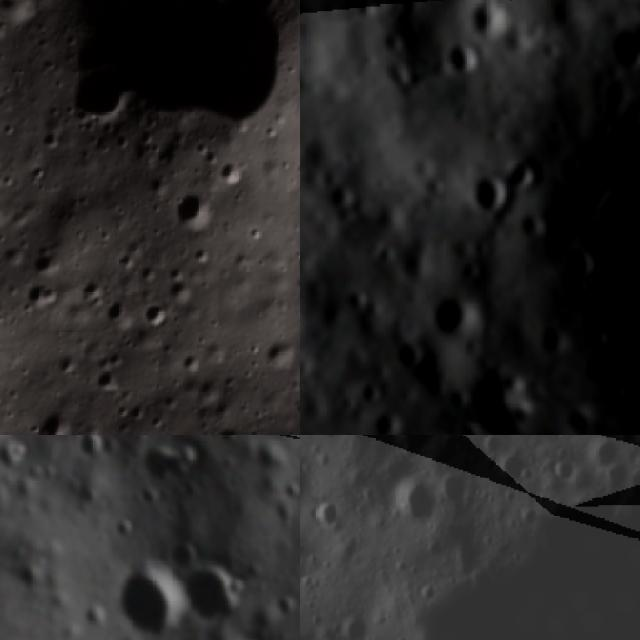crater: (115, 557, 181, 640), (421, 287, 489, 351), (181, 563, 242, 626), (550, 228, 608, 293), (460, 161, 518, 223), (497, 146, 553, 204), (386, 468, 440, 527), (141, 438, 201, 488), (456, 0, 516, 49), (176, 185, 227, 241), (315, 174, 367, 228), (528, 317, 580, 371), (439, 32, 486, 83), (601, 18, 640, 79), (386, 333, 430, 380), (134, 294, 178, 334), (163, 536, 202, 579), (363, 401, 407, 435), (352, 372, 389, 412), (308, 497, 348, 533), (213, 160, 249, 188)
